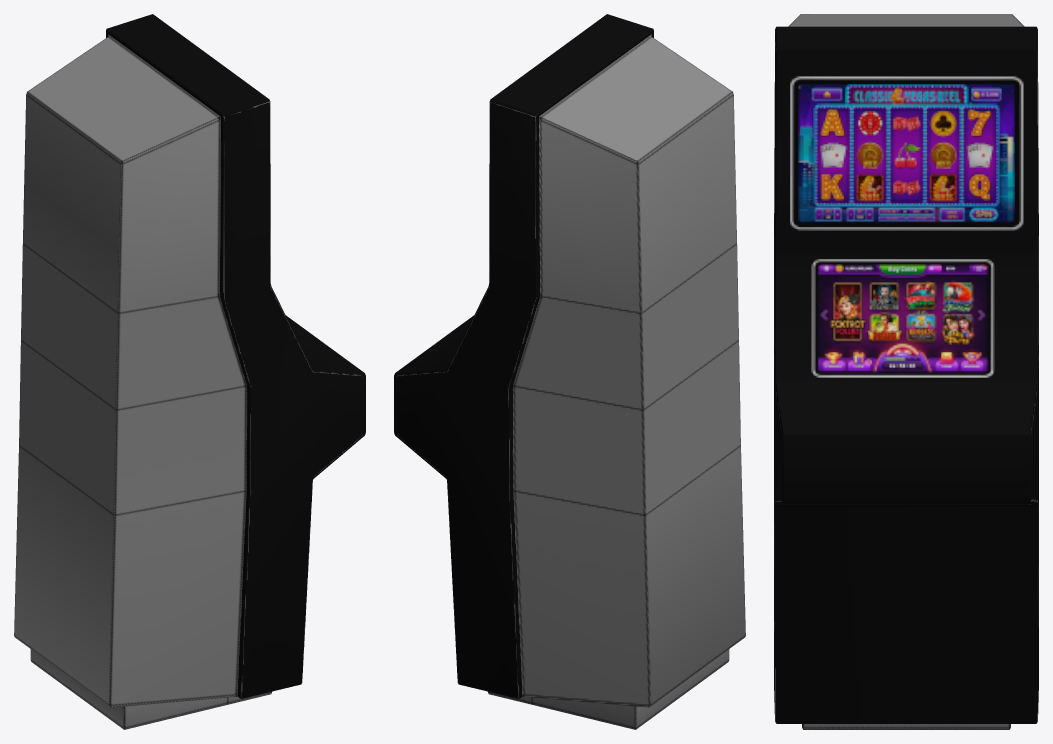
Rendered from Maquina_Tragaperras.fbx.
3 renders of one model, left to right at view 1: azimuth 30°, elevation 25°; view 2: azimuth 150°, elevation 25°; view 3: azimuth 270°, elevation 25°, orthographic. The views are drawn at different scales.
Parts seen in each view (by area): view 1: Plane; view 2: Plane; view 3: Plane.
Part boxes in pixels (x1,y1,x2,y2): Plane: [14, 14, 365, 729]; Plane: [394, 14, 745, 729]; Plane: [774, 14, 1038, 729].
Size of the model in its own units: 28.09 by 65.4 by 23.26.
1 material, 1 textured.
